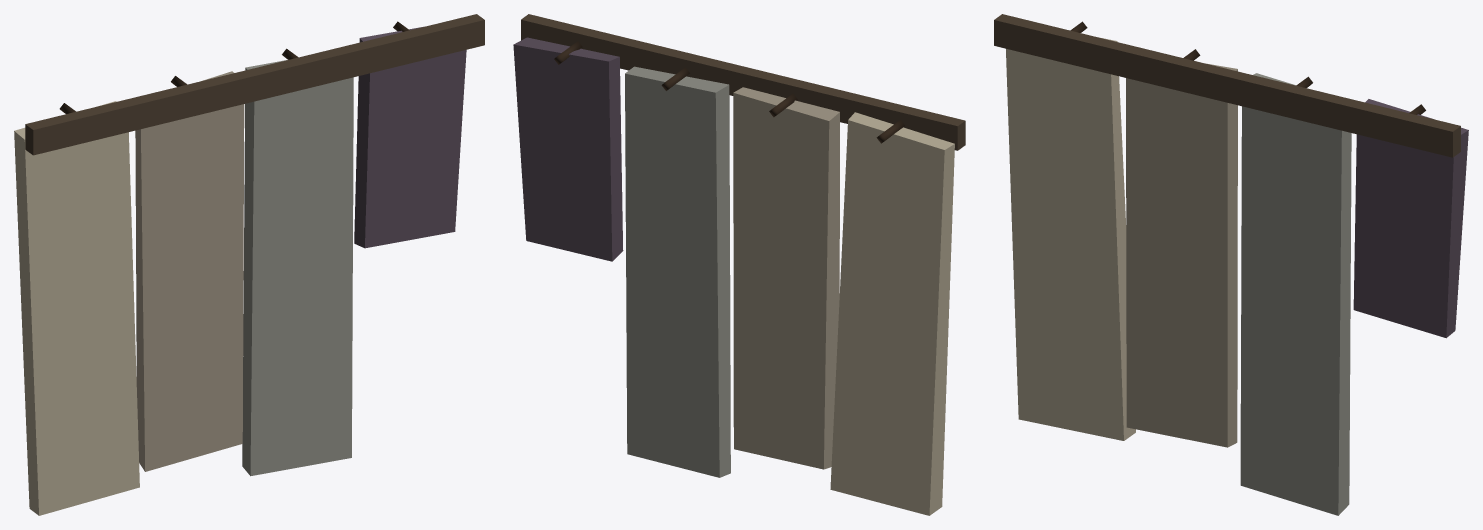
Rendered from pegs_nightclothes.glb.
3 renders of one model, left to right at view 1: azimuth 30°, elevation 25°; view 2: azimuth 150°, elevation 25°; view 3: azimuth 330°, elevation 25°, orthographic. The views are drawn at different scales.
Parts seen in each view (by area): view 1: pegs_nightclothes; view 2: pegs_nightclothes; view 3: pegs_nightclothes.
Part boxes in pixels (bbox=[...]): pegs_nightclothes: bbox=[14, 14, 484, 515]; pegs_nightclothes: bbox=[513, 14, 965, 515]; pegs_nightclothes: bbox=[994, 14, 1468, 515].
Size of the model in its own units: 1.3 by 1.14 by 0.14.
